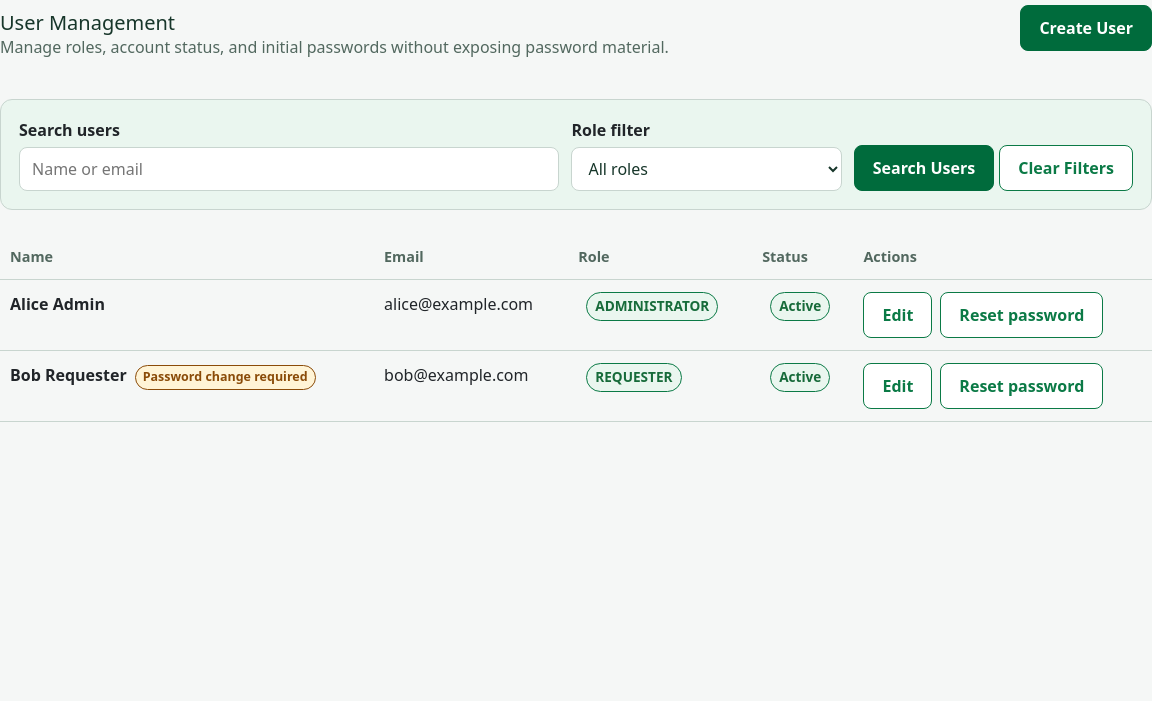
Scenario: Lab 3 Administrator User Management › creates a user without displaying the plaintext password
The width and height of the screenshot is (1152, 701).
Expected: the heading "User Management" is shown, [0,9,175,36]
Click the button "Create User": (1086, 28) [1020,5,1151,51]
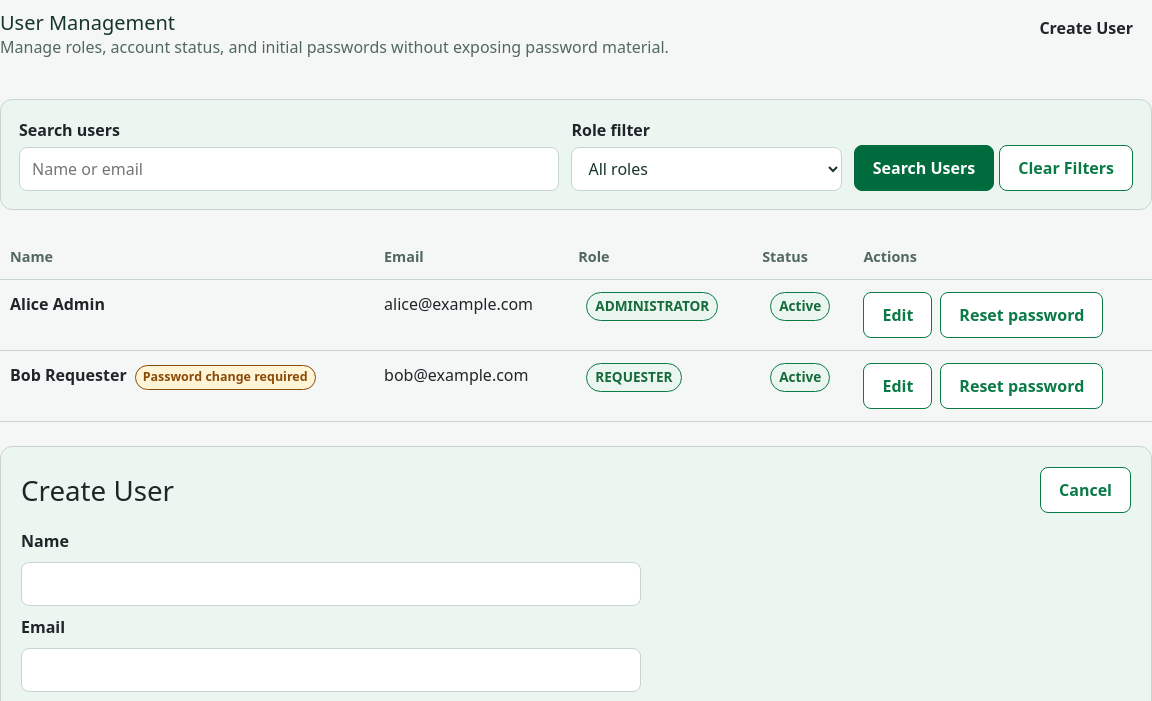
In the field labelled "Name": (331, 584) [21,562,641,606], type "New Staff"
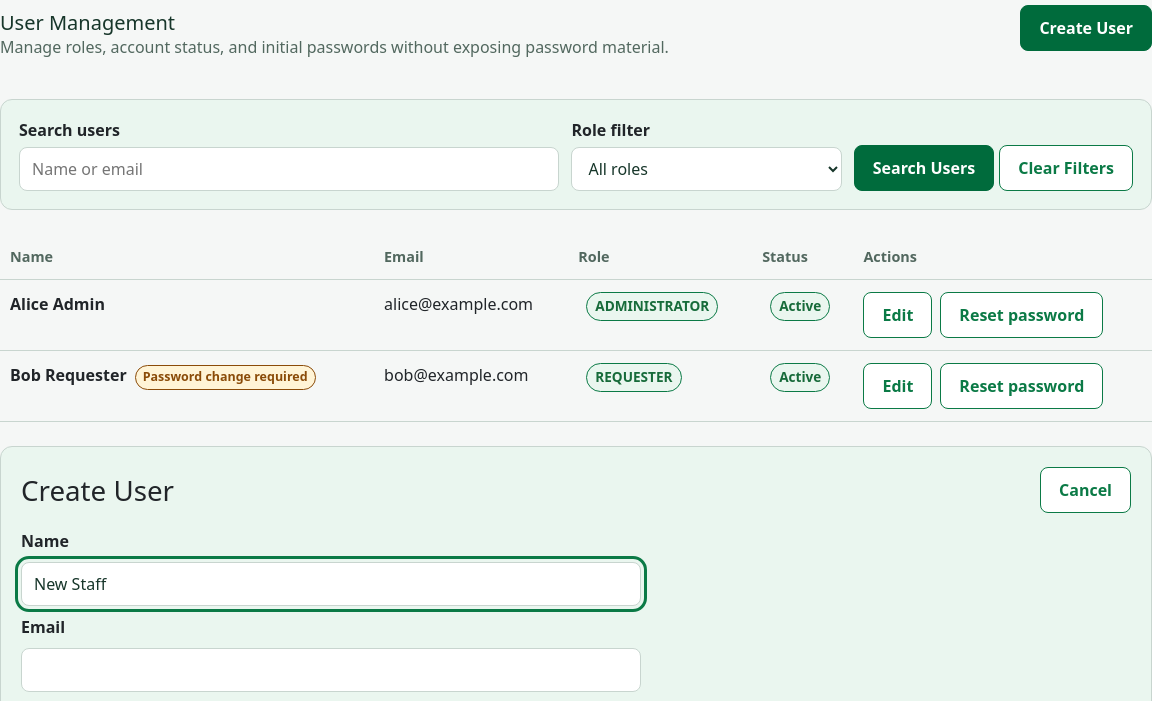
In the field labelled "Email": (331, 670) [21,648,641,692], type "new.staff@example.com"
(page scrolled)
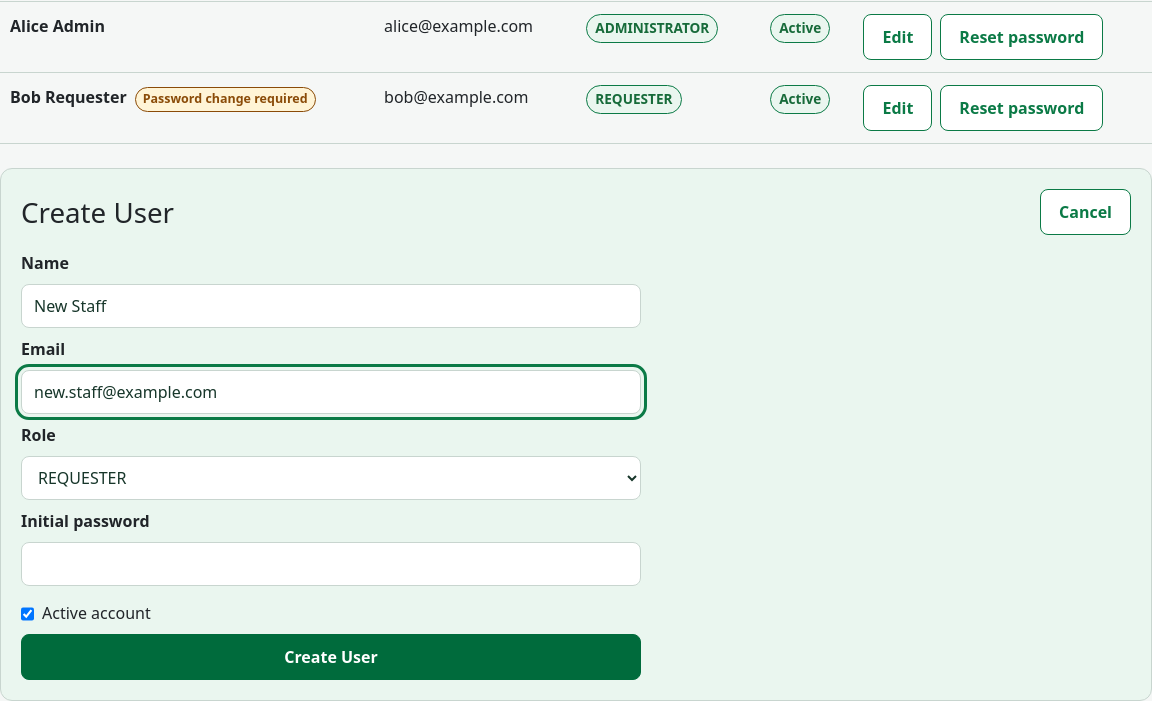
Select "IT_STAFF" in the dropdown labelled "Role": (331, 478) [21,456,641,500]
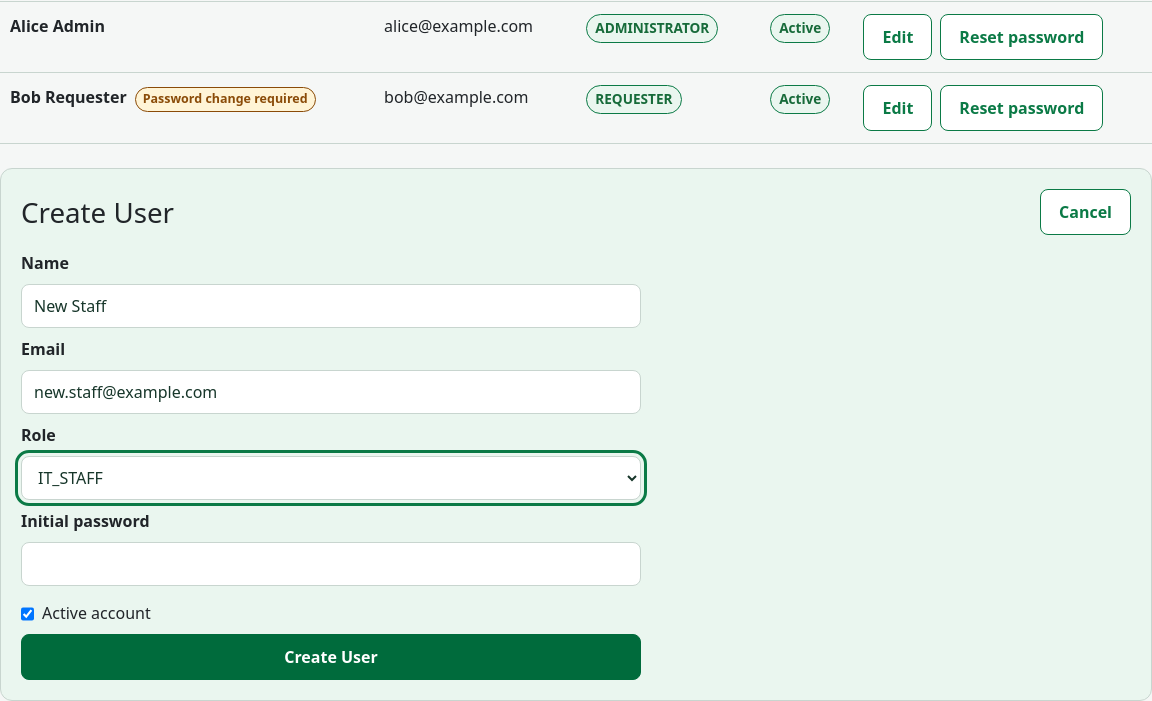
In the password field labelled "Initial password": (331, 564) [21,542,641,586], type "safe-local-password"
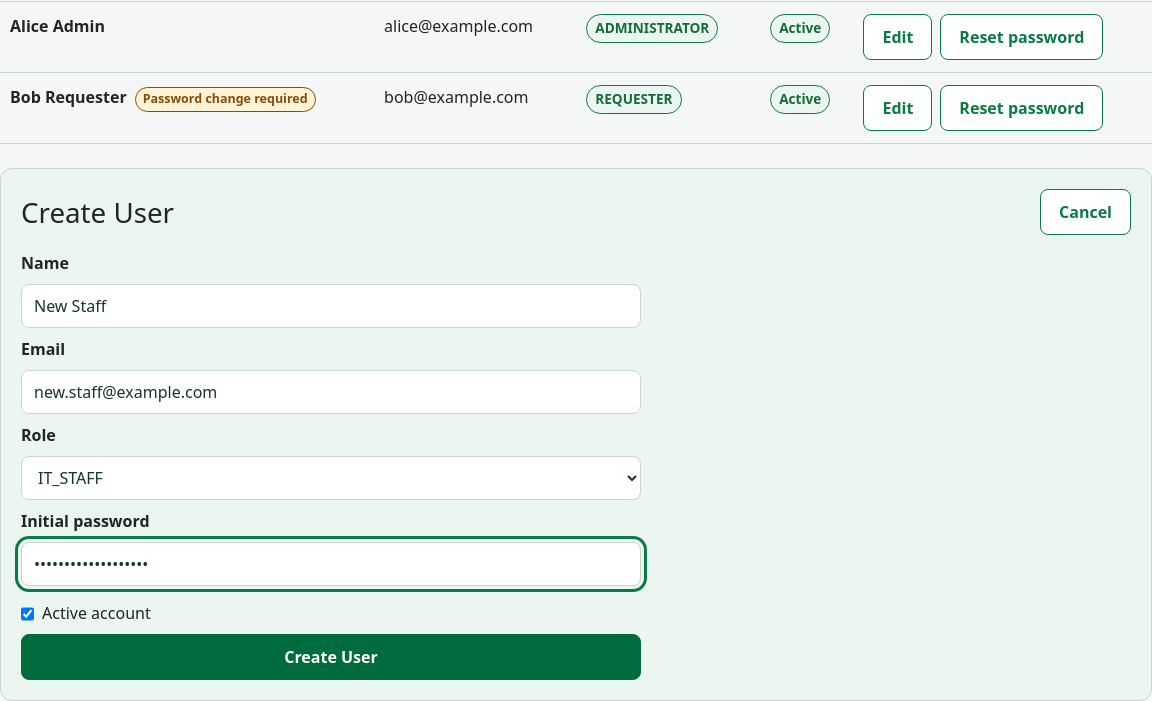
Click the button "Create User": (331, 657) [21,634,641,680]
(page scrolled)
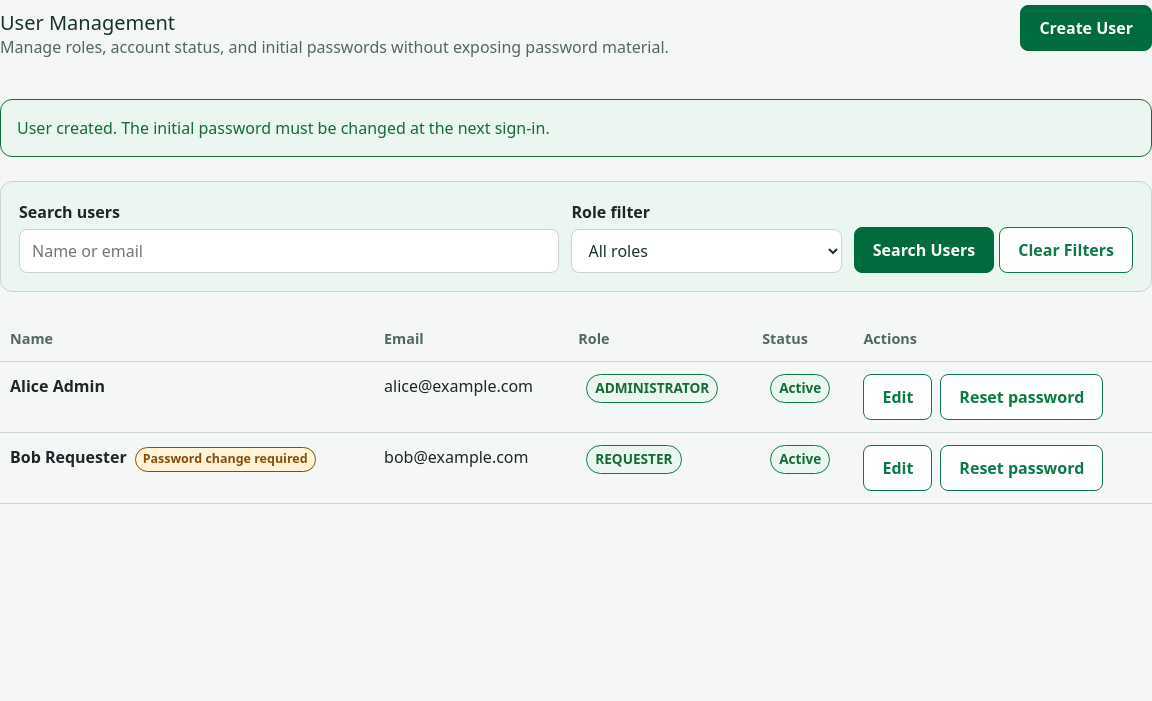
Now the text "User created. The initial password must be changed at the next sign-in." is shown, box [0,99,1151,157]
